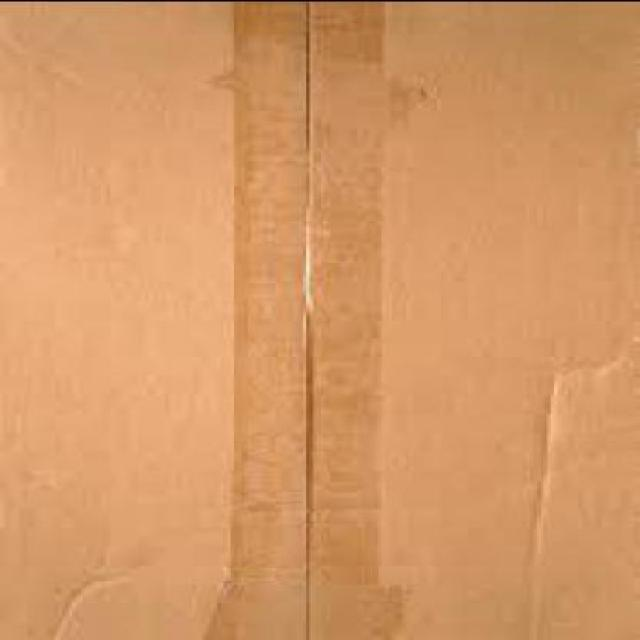CARDBOARD: (0, 1, 640, 638), (303, 1, 640, 638), (0, 1, 306, 638)
